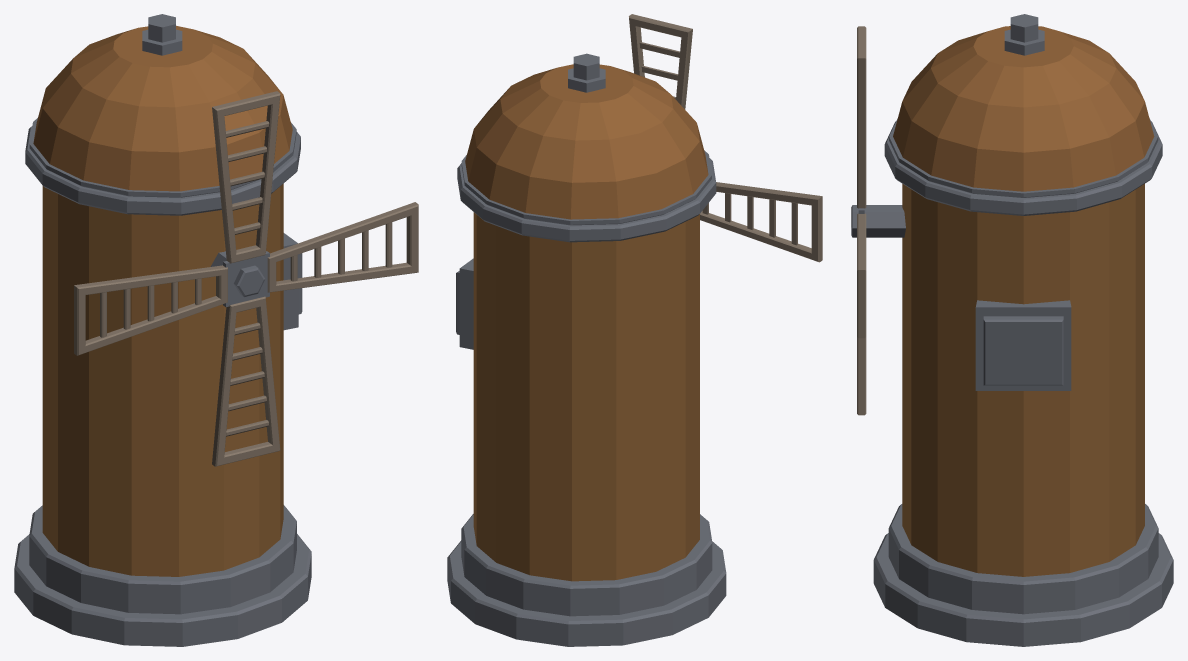
The model's file is farmstructure_c.gltf.
3 renders of one model, left to right at view 1: azimuth 30°, elevation 25°; view 2: azimuth 150°, elevation 25°; view 3: azimuth 270°, elevation 25°, orthographic. The views are drawn at different scales.
Parts seen in each view (by area): view 1: Cylinder003, Cylinder001, Sphere001, Shape003; view 2: Cylinder003, Cylinder001, Sphere001, Shape003; view 3: Cylinder003, Cylinder001, Sphere001, Shape003.
Boxes of the visible parts, x1=… form: Cylinder003: x1=42, y1=184, x2=283, y2=576; Cylinder001: x1=14, y1=14, x2=311, y2=646; Sphere001: x1=33, y1=25, x2=292, y2=191; Shape003: x1=74, y1=91, x2=418, y2=466; Cylinder003: x1=473, y1=212, x2=699, y2=581; Cylinder001: x1=447, y1=53, x2=726, y2=646; Sphere001: x1=465, y1=64, x2=708, y2=219; Shape003: x1=629, y1=14, x2=822, y2=262; Cylinder003: x1=902, y1=184, x2=1144, y2=576; Cylinder001: x1=851, y1=14, x2=1173, y2=646; Sphere001: x1=893, y1=26, x2=1154, y2=191; Shape003: x1=857, y1=26, x2=866, y2=415.
Bounding box in the file's own units: 6.7 × 10.55 × 5.47.
Materials: 1 (1 with a texture image).
